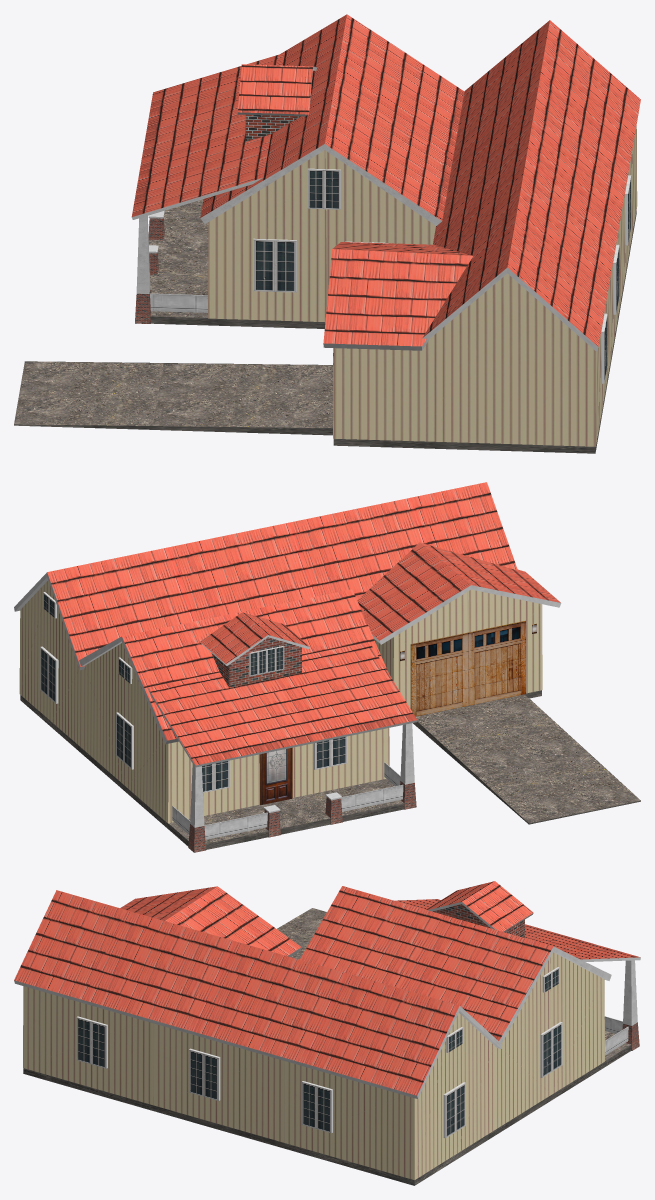
The model's file is house_01__10_.FBX.
3 renders of one model, top to bottom at view 1: azimuth 30°, elevation 25°; view 2: azimuth 150°, elevation 25°; view 3: azimuth 270°, elevation 25°, orthographic. The views are drawn at different scales.
Visible parts, largest first — view 1: house_01__10_; view 2: house_01__10_; view 3: house_01__10_.
Boxes of the visible parts, x1,y1,x2,y2 form: house_01__10_: (14,14,640,453); house_01__10_: (14,482,640,852); house_01__10_: (14,881,640,1185).
Bounding box in the file's own units: 256 × 70.48 × 243.
